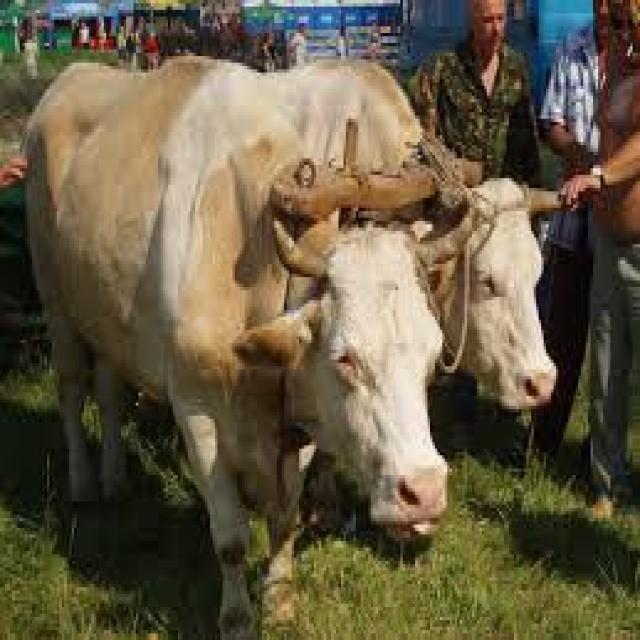Ox: (22, 61, 452, 622), (300, 59, 570, 432)
